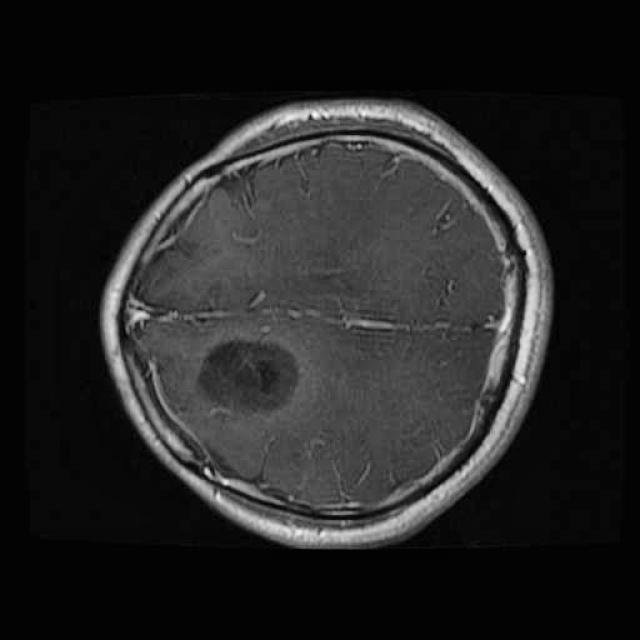Non-Tumor: (190, 330, 308, 426)
